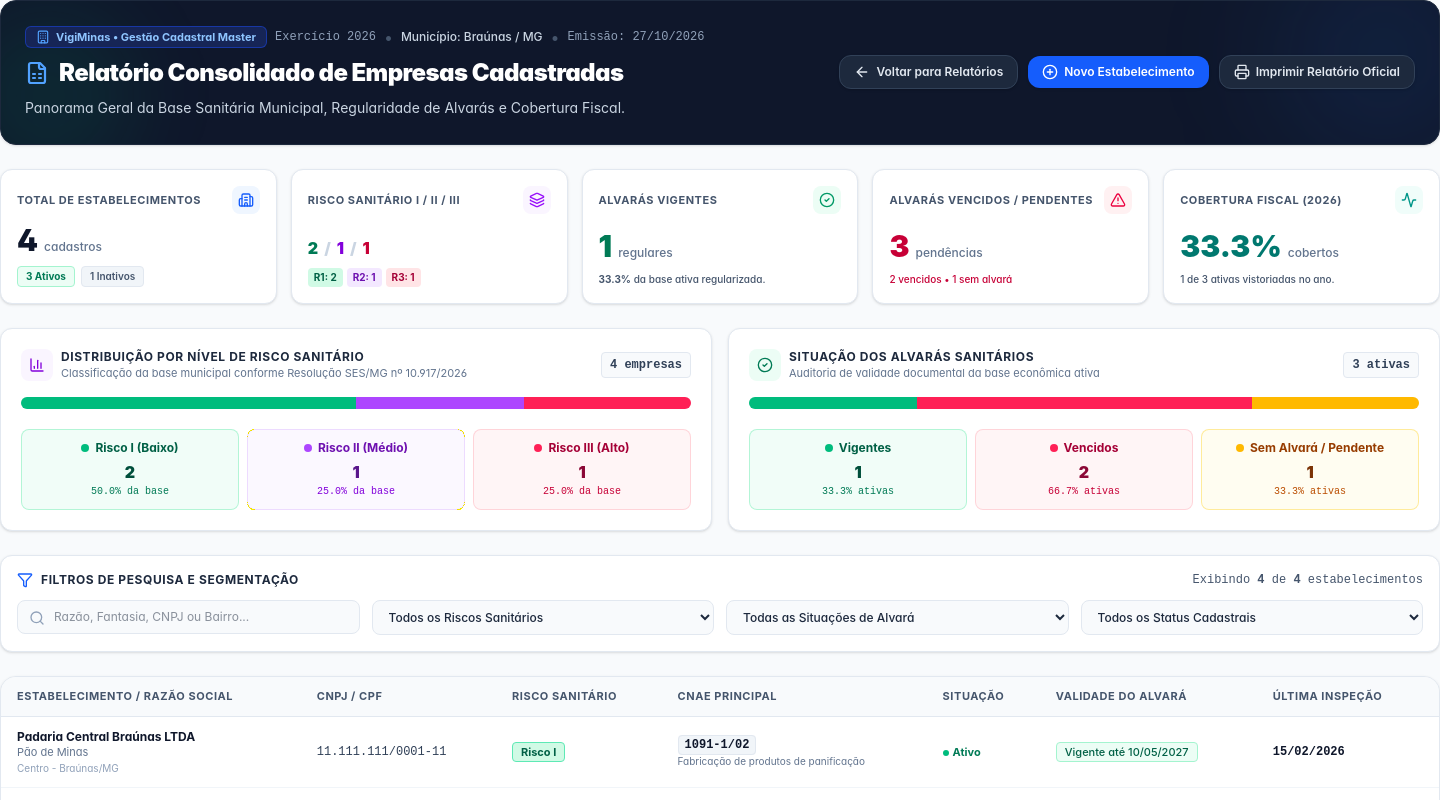
Test case: RelatorioEmpresasConsolidadasPage (US-07 - Relatório Master) › filtra estabelecimentos pelo dropdown de nível de risco
Select "Risco III (Alto Risco)" in the 1st dropdown showing "Todos os Riscos Sanitários". click: {"x": 543, "y": 618}
box: x1=372 y1=600 x2=714 y2=635
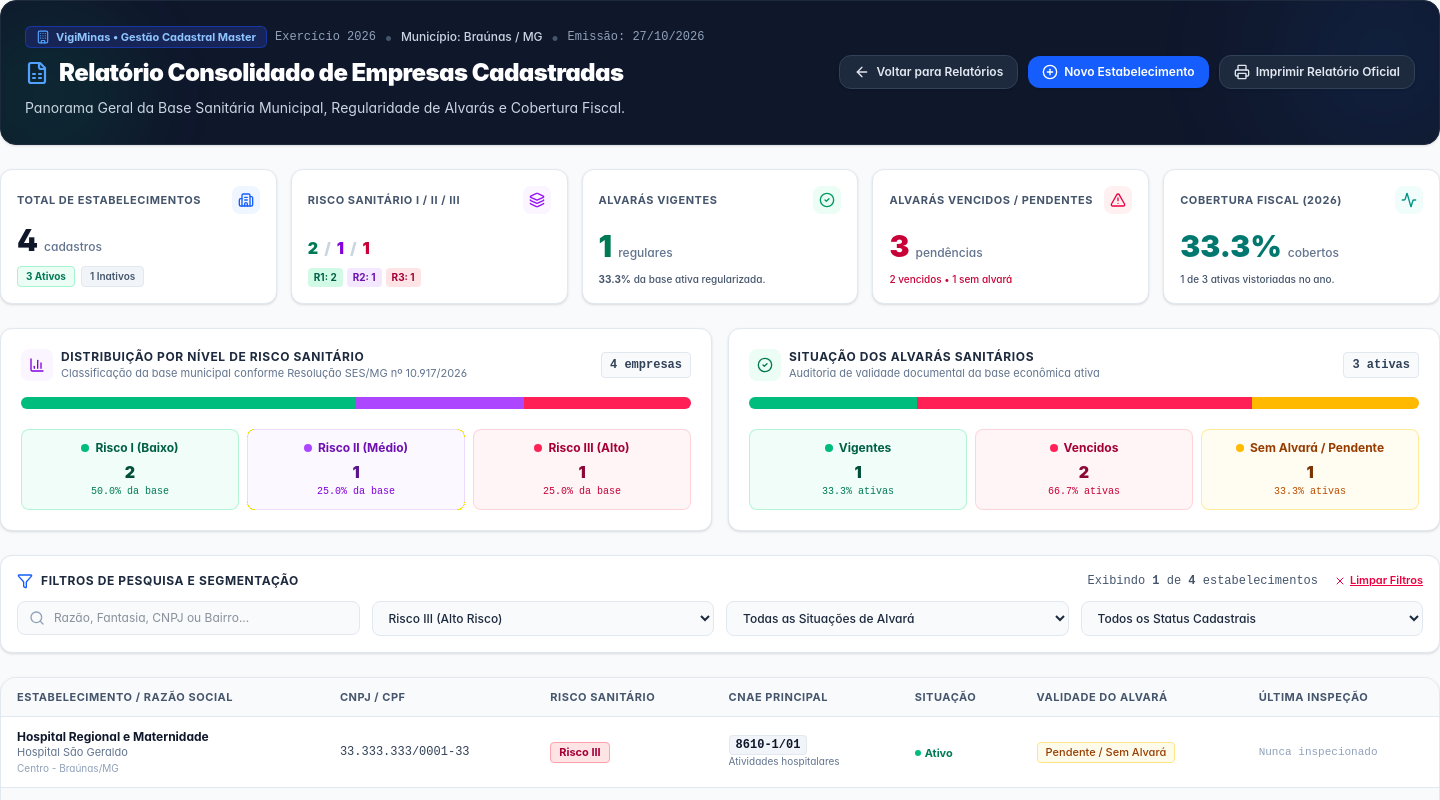
Expected: the text "Hospital Regional e Maternidade" is shown, x1=17 y1=729 x2=209 y2=744
Now the text "Padaria Central Braúnas LTDA" is gone
